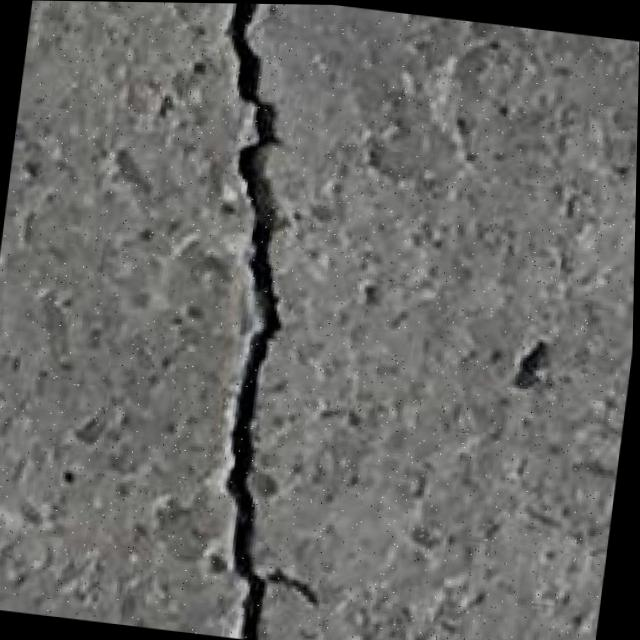Crack: (131, 2, 375, 640)
